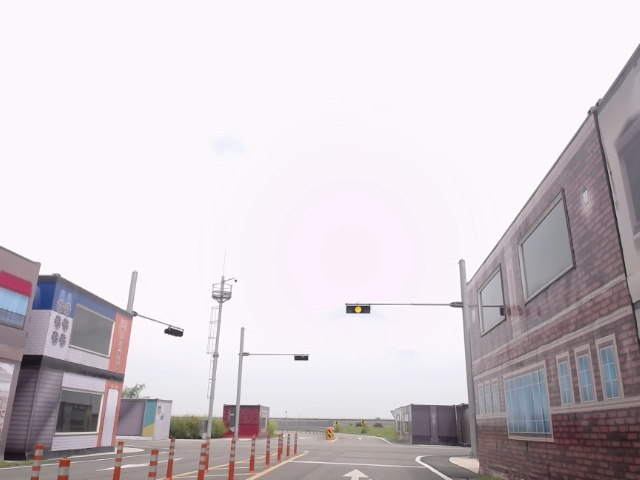orange_3: (347, 305, 370, 314)
